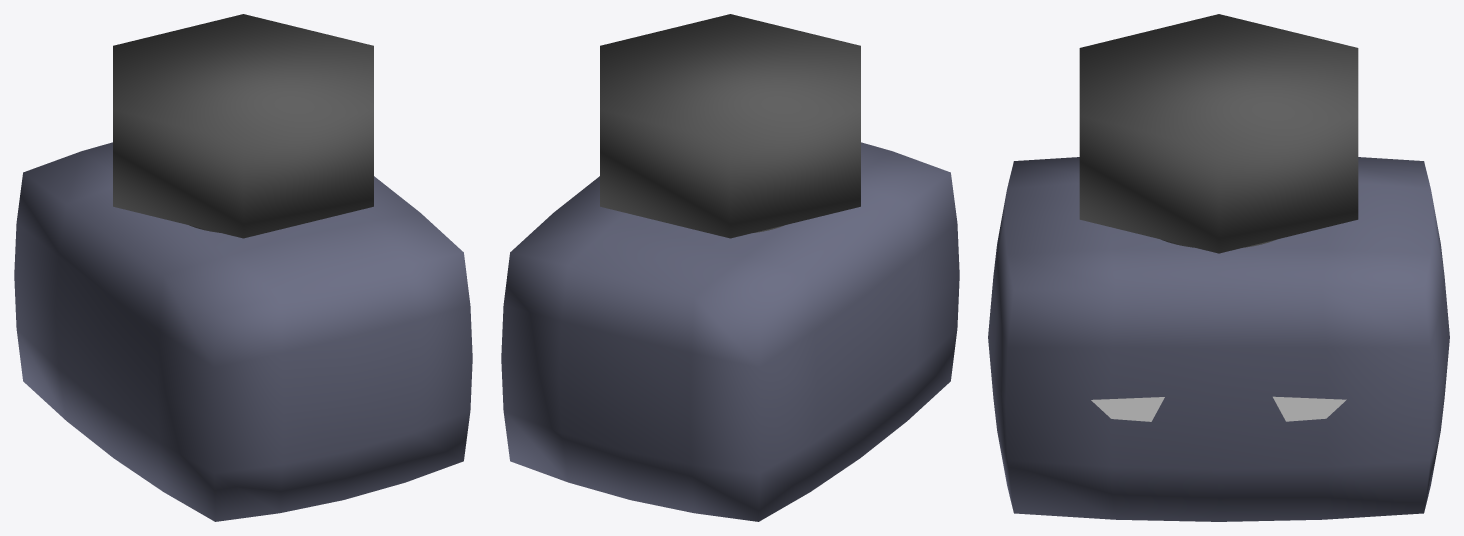
File: head.gltf
The picture shows the model from 3 angles, left to right: view 1: azimuth 30°, elevation 25°; view 2: azimuth 150°, elevation 25°; view 3: azimuth 270°, elevation 25°; orthographic projection. The views are drawn at different scales.
Parts seen in each view (by area): view 1: Head, Bolt; view 2: Head, Bolt; view 3: Head, Bolt, Eyes, Eyes.001.
Part boxes in pixels (box(x1,y1,x2,y2)): Head: box(14, 142, 472, 521); Bolt: box(113, 14, 373, 238); Head: box(501, 142, 959, 521); Bolt: box(600, 14, 860, 238); Head: box(988, 157, 1449, 521); Bolt: box(1079, 14, 1358, 253); Eyes: box(1091, 397, 1164, 421); Eyes.001: box(1273, 396, 1346, 421).
Bounding box in the file's own units: 2.27 × 2.76 × 3.02.
